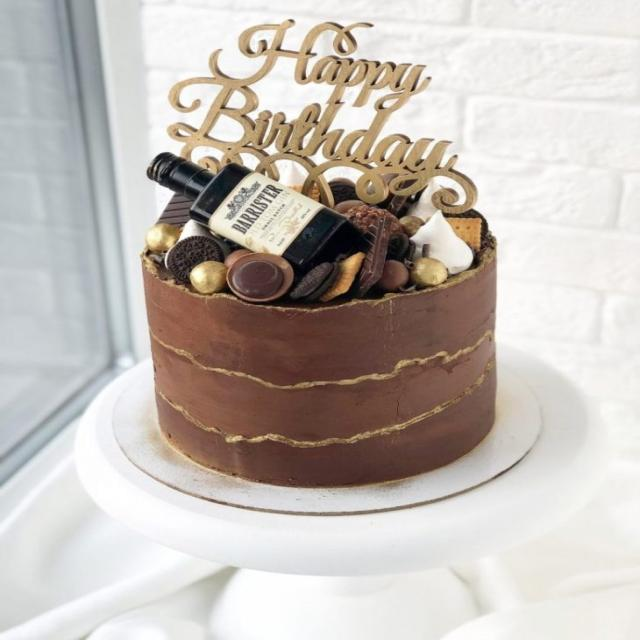Wet Waste: (94, 48, 579, 534)
